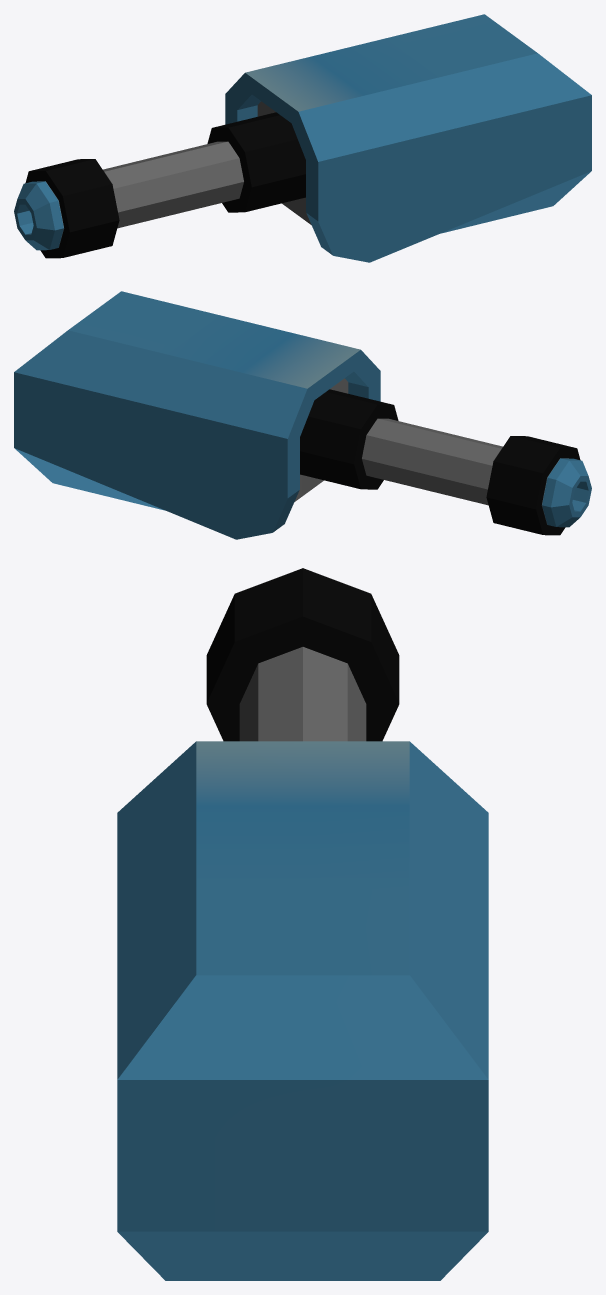
Rendered from turret_head_upgrade_0.obj.
3 views of the same model, one above another, from view 1: azimuth 30°, elevation 25°; view 2: azimuth 150°, elevation 25°; view 3: azimuth 270°, elevation 25° (orthographic). The views are drawn at different scales.
Parts seen in each view (by area): view 1: Circle.005; view 2: Circle.005; view 3: Circle.005.
Part boxes in pixels (box(x1,y1,x2,y2)): Circle.005: box(14, 14, 591, 262); Circle.005: box(14, 291, 591, 539); Circle.005: box(117, 568, 488, 1280).
Bounding box in the file's own units: 2.61 × 0.7145 × 0.8066.
